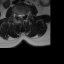CCS_normal: (20, 12, 22, 20)
LFS_normal: (24, 11, 26, 17)
LLS_stenosis: (22, 12, 24, 19)
RFS_normal: (16, 11, 18, 18)
RLS_normal: (18, 12, 20, 19)
